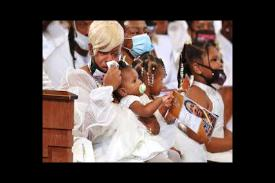mask_weared_incorrect: (210, 55, 232, 84), (98, 49, 121, 76), (76, 21, 90, 47)
with_mask: (129, 24, 150, 52), (193, 22, 216, 38)
without_mask: (127, 72, 148, 95), (184, 99, 205, 118), (156, 72, 168, 94)
